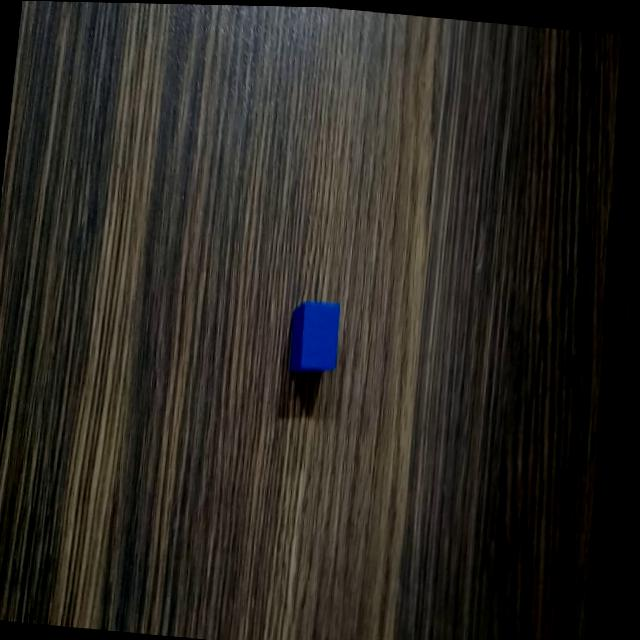cube: (286, 292, 349, 377)
